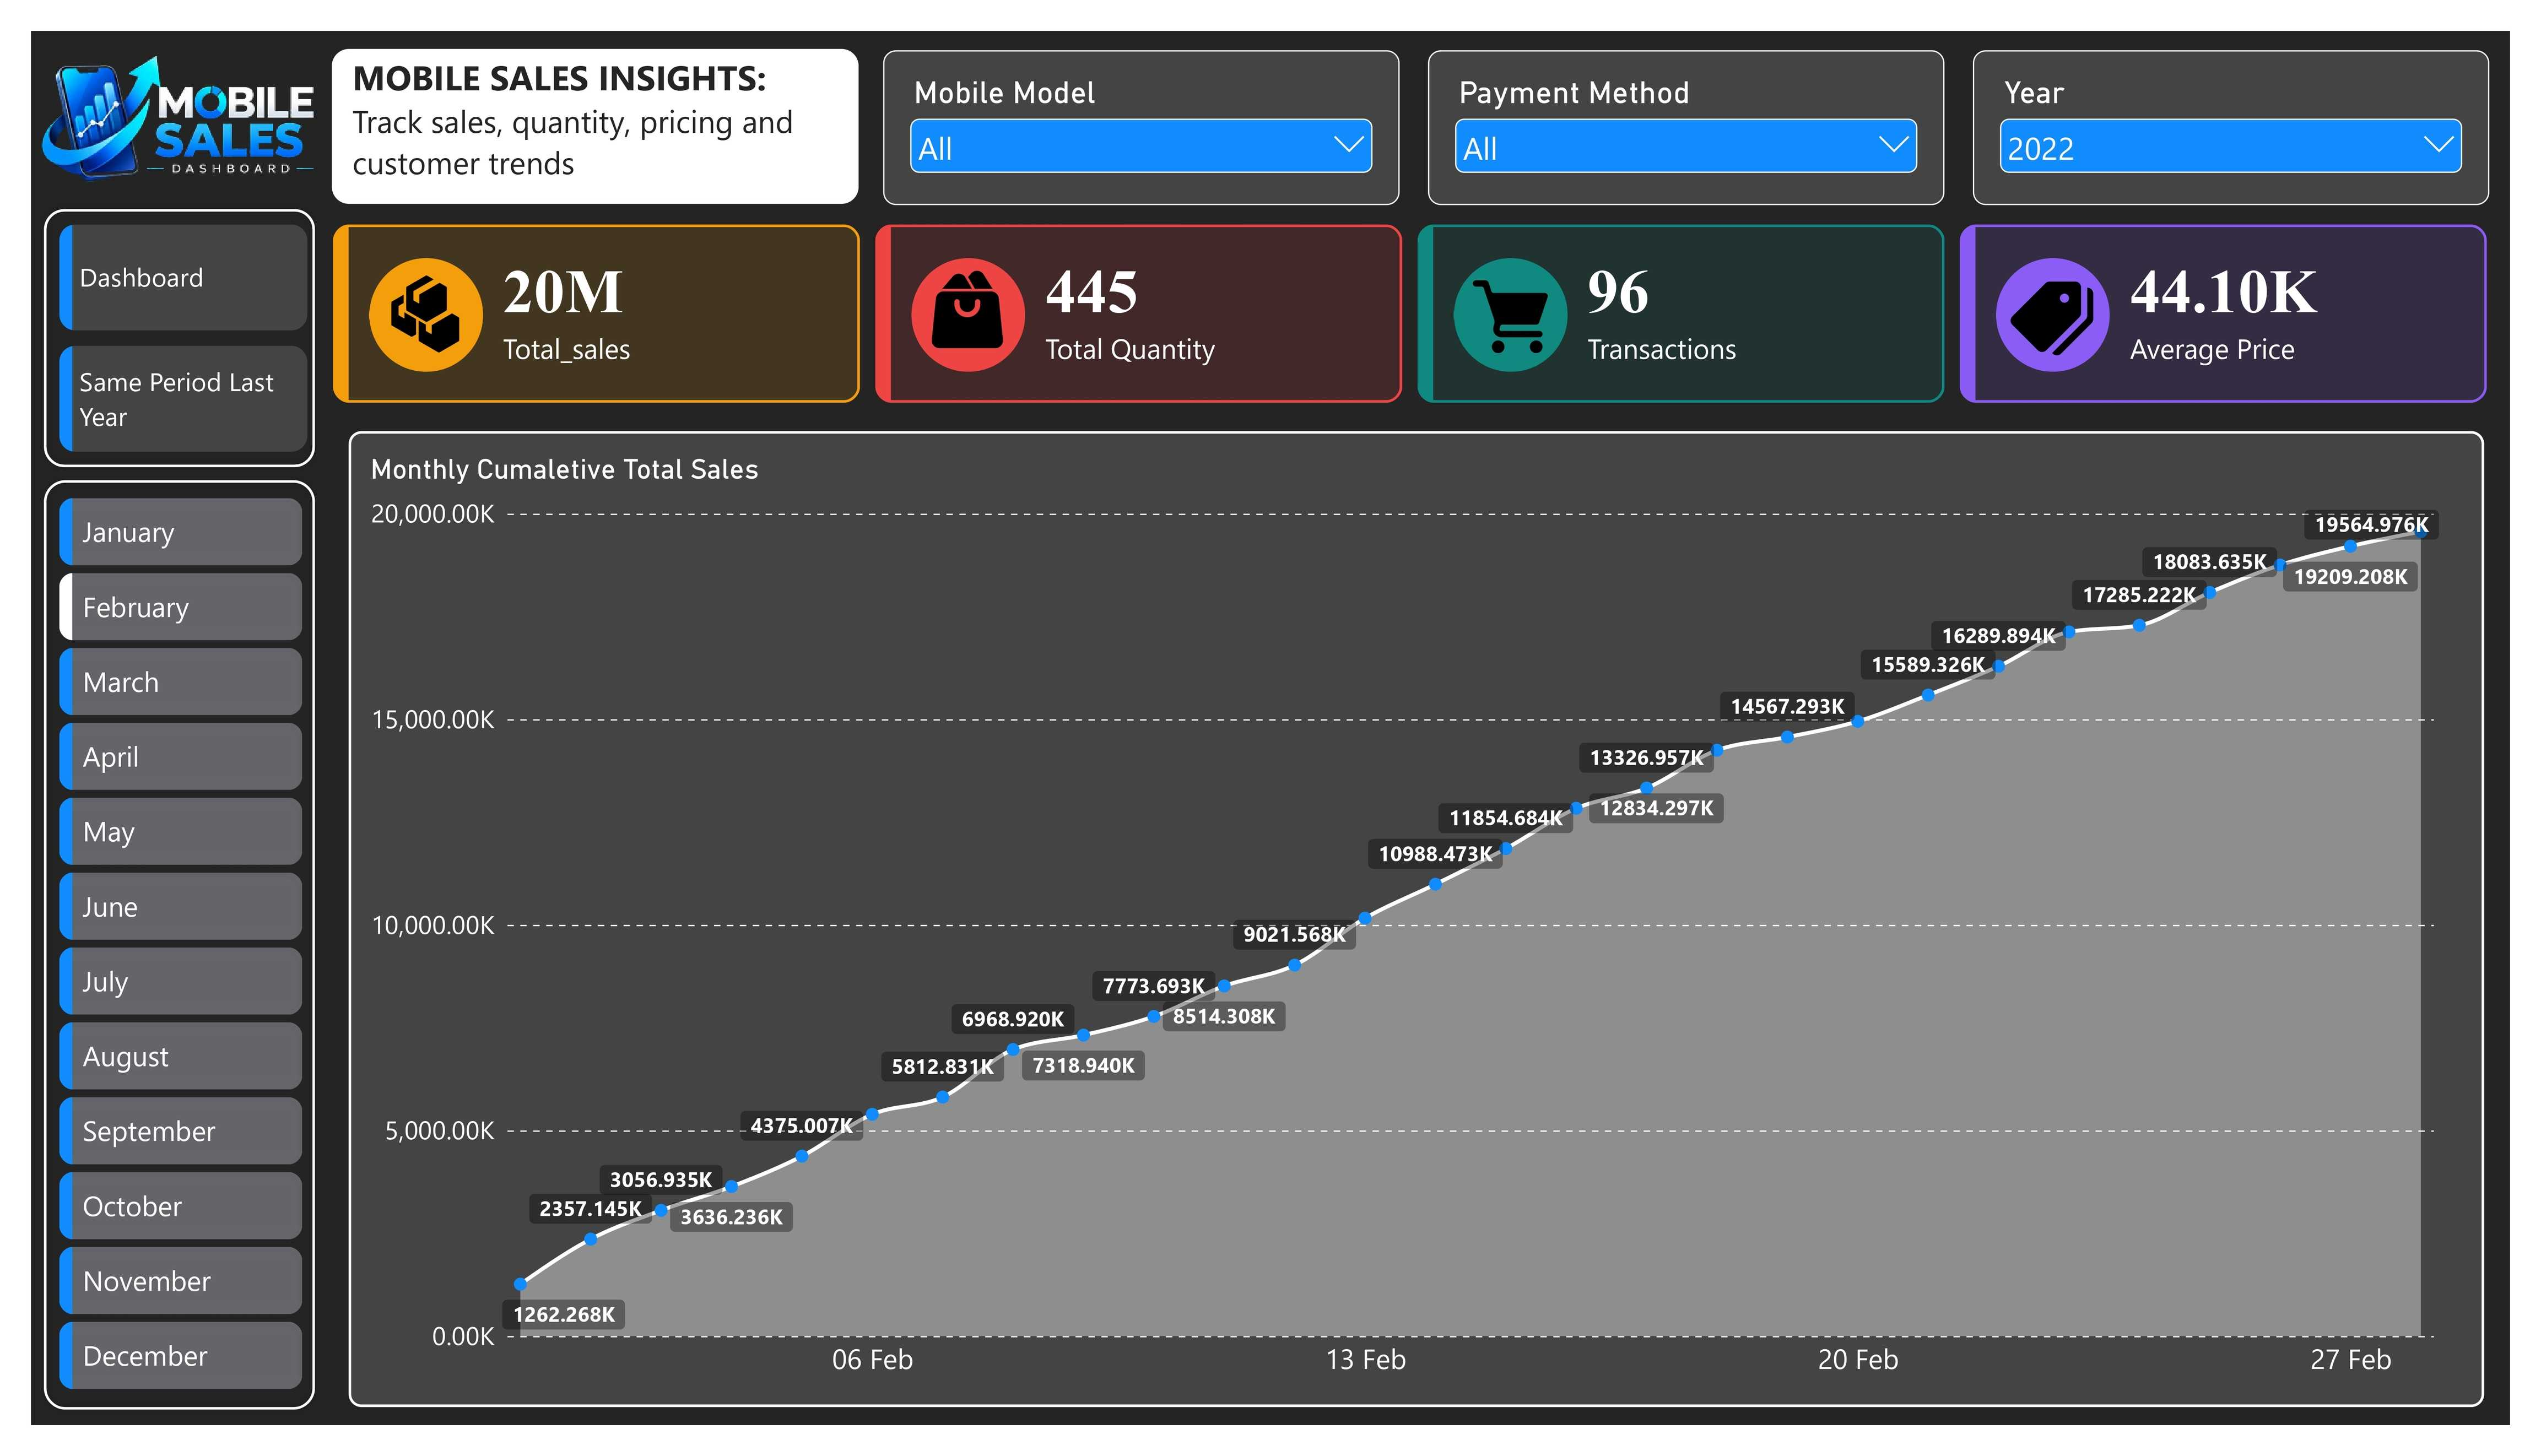

The page's visual inventory and layout, read from the dashboard file:
{"tool":"powerbi","page":{"name":"MTD Report","canvas":[1920,1080],"ordinal":1},"visuals":[{"type":"image","box":[0,0,228,130],"z":0},{"type":"shape","box":[6,134,218,208],"z":1000},{"type":"shape","box":[6,344,218,728],"z":2000},{"type":"slicer","fields":{"Values":["sales_data.Mobile Model"]},"box":[660,15.3,400,120],"z":3000},{"type":"slicer","fields":{"Values":["sales_data.Payment Method"]},"box":[1082,15.3,400,120],"z":4000},{"type":"slicer","fields":{"Values":["custom_calendar.Date.Variation.Date Hierarchy.Year"]},"box":[1504,15.3,400,120],"z":5000},{"type":"cardVisual","fields":{"Data":["sales_data.Total_sales","sales_data.Total Quantity","sales_data.Transactions","sales_data.Average Price"]},"box":[234,150,1670,138],"z":6000},{"type":"advancedSlicerVisual","fields":{"Values":["custom_calendar.Date.Variation.Date Hierarchy.Month"]},"box":[22,362,188,690],"z":7000},{"type":"pageNavigator","box":[22,150,192,176],"z":8000},{"type":"shape","box":[233,13.5,408,120],"z":9000},{"type":"textbox","box":[249,16.5,376,114],"z":10000},{"type":"lineChart","title":"Monthly Cumaletive Total Sales","fields":{"Category":["custom_calendar.Date.Variation.Date Hierarchy.Year","custom_calendar.Date.Variation.Date Hierarchy.Quarter","custom_calendar.Date.Variation.Date Hierarchy.Month","custom_calendar.Date.Variation.Date Hierarchy.Day"],"Y":["sales_data.MTD"]},"box":[246,310,1654,756],"z":11000}]}

Visuals, with their boxes in screenshot pixels (x1, y1, x2, y2), scaled from the page's 1920x1080 canvas onto the 2541x1456 screenshot:
image: (0,0,302,175)
shape: (8,181,296,461)
shape: (8,464,296,1445)
slicer - sales_data.Mobile Model: (873,20,1403,182)
slicer - sales_data.Payment Method: (1432,20,1961,182)
slicer - custom_calendar.Date.Variation.Date Hierarchy.Year: (1991,20,2520,182)
cardVisual - sales_data.Total_sales x sales_data.Total Quantity: (310,202,2520,388)
advancedSlicerVisual - custom_calendar.Date.Variation.Date Hierarchy.Month: (29,488,278,1418)
pageNavigator: (29,202,283,440)
shape: (309,18,848,180)
textbox: (329,22,827,176)
"Monthly Cumaletive Total Sales" lineChart: (326,418,2515,1437)
